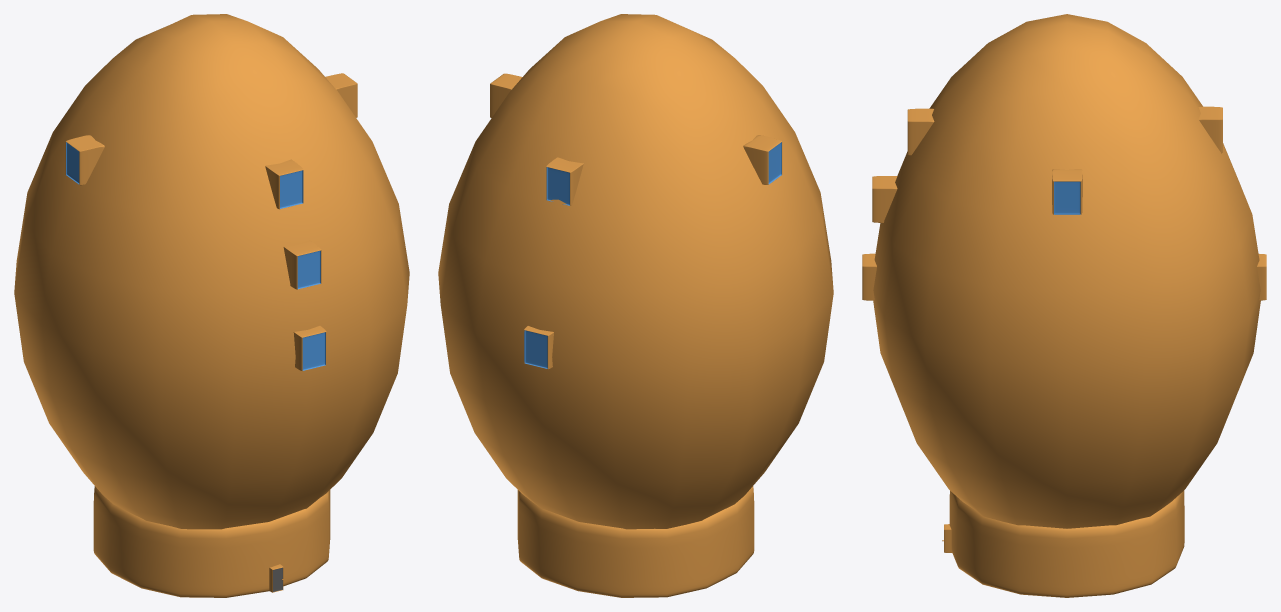
Rendered from GoldenEgg.fbx.
The picture shows the model from 3 angles, left to right: view 1: azimuth 30°, elevation 25°; view 2: azimuth 150°, elevation 25°; view 3: azimuth 270°, elevation 25°; orthographic projection.
Parts seen in each view (by area): view 1: Golden Egg; view 2: Golden Egg; view 3: Golden Egg.
Part boxes in pixels (bbox=[...]): Golden Egg: bbox=[14, 14, 409, 597]; Golden Egg: bbox=[438, 14, 833, 597]; Golden Egg: bbox=[862, 14, 1266, 597].
Bounding box in the file's own units: 4922 × 7346 × 5073.
